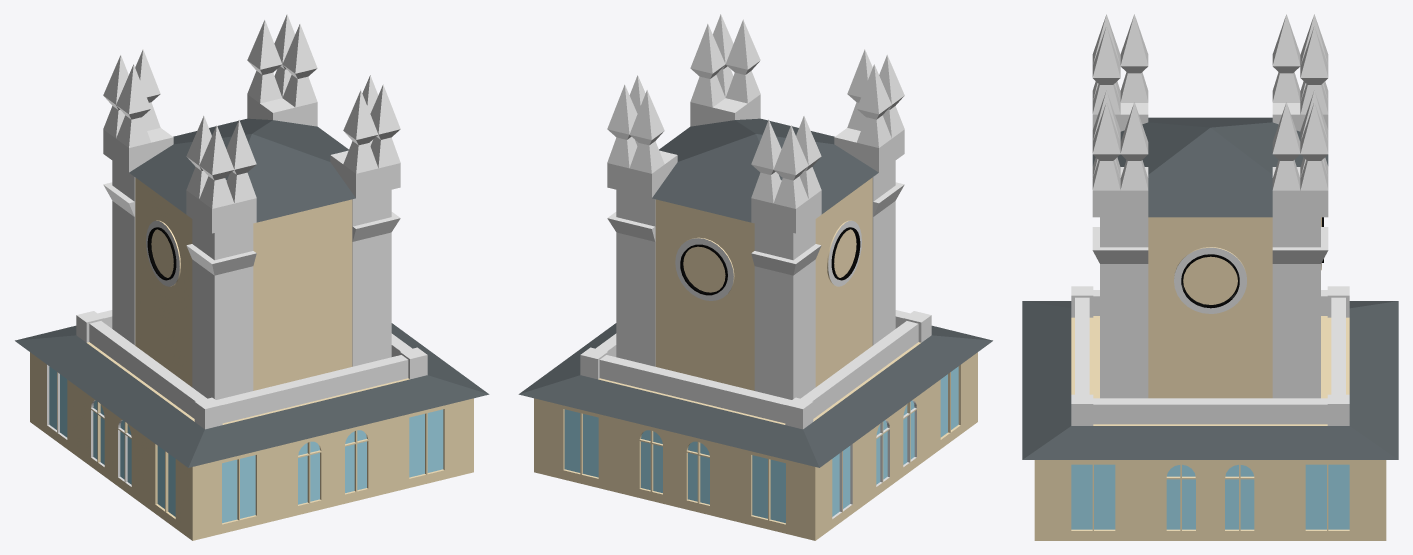
Rendered from HouseWithClocks.glb.
The picture shows the model from 3 angles, left to right: view 1: azimuth 30°, elevation 25°; view 2: azimuth 150°, elevation 25°; view 3: azimuth 270°, elevation 25°; orthographic projection. The views are drawn at different scales.
Visible parts, largest first — view 1: Твердое тело1 (×2), штука, Твердое тело4; view 2: Твердое тело1 (×2), Твердое тело4, штука, штука4, облиц; view 3: Твердое тело1 (×2), Твердое тело4, штука, облиц, штука4, Твердое тело6.
Boxes of the visible parts, <box> form: Твердое тело1 (×2): <box>15,49,489,540</box>; штука: <box>247,19,317,107</box>; Твердое тело4: <box>209,94,345,147</box>; Твердое тело1 (×2): <box>518,14,992,540</box>; Твердое тело4: <box>607,134,755,210</box>; штука: <box>607,75,664,173</box>; штука4: <box>607,84,637,134</box>; облиц: <box>611,212,655,241</box>; Твердое тело1 (×2): <box>1022,14,1398,540</box>; Твердое тело4: <box>1210,128,1328,217</box>; штука: <box>1272,90,1328,190</box>; облиц: <box>1272,227,1328,263</box>; штука4: <box>1300,102,1328,154</box>; Твердое тело6: <box>1210,247,1246,313</box>.
Size of the model in its own units: 0.0514 by 0.0616 by 0.0514.
Materials: 7 (1 with a texture image).
